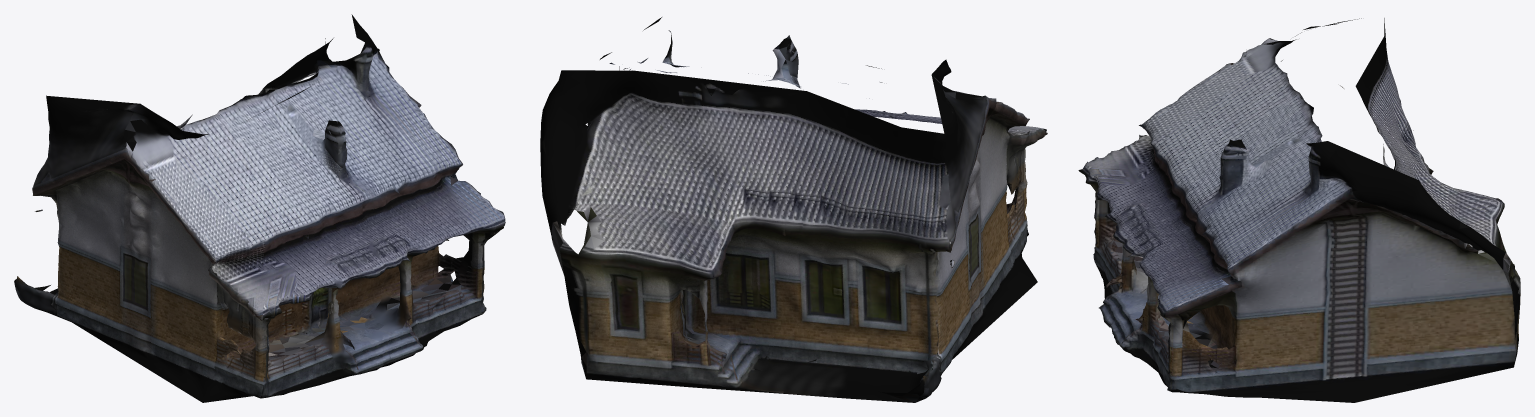
3 views of the same model, side by side, from view 1: azimuth 30°, elevation 25°; view 2: azimuth 150°, elevation 25°; view 3: azimuth 270°, elevation 25° (orthographic). The views are drawn at different scales.
Bounding box in the file's own units: 954 × 623 × 1000.
Materials: 1 (1 with a texture image).
